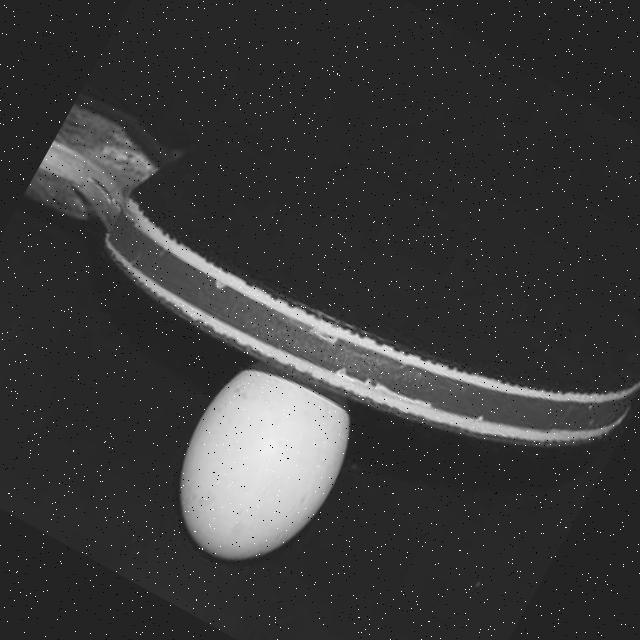ping-pong-ball: (139, 310, 395, 600)
